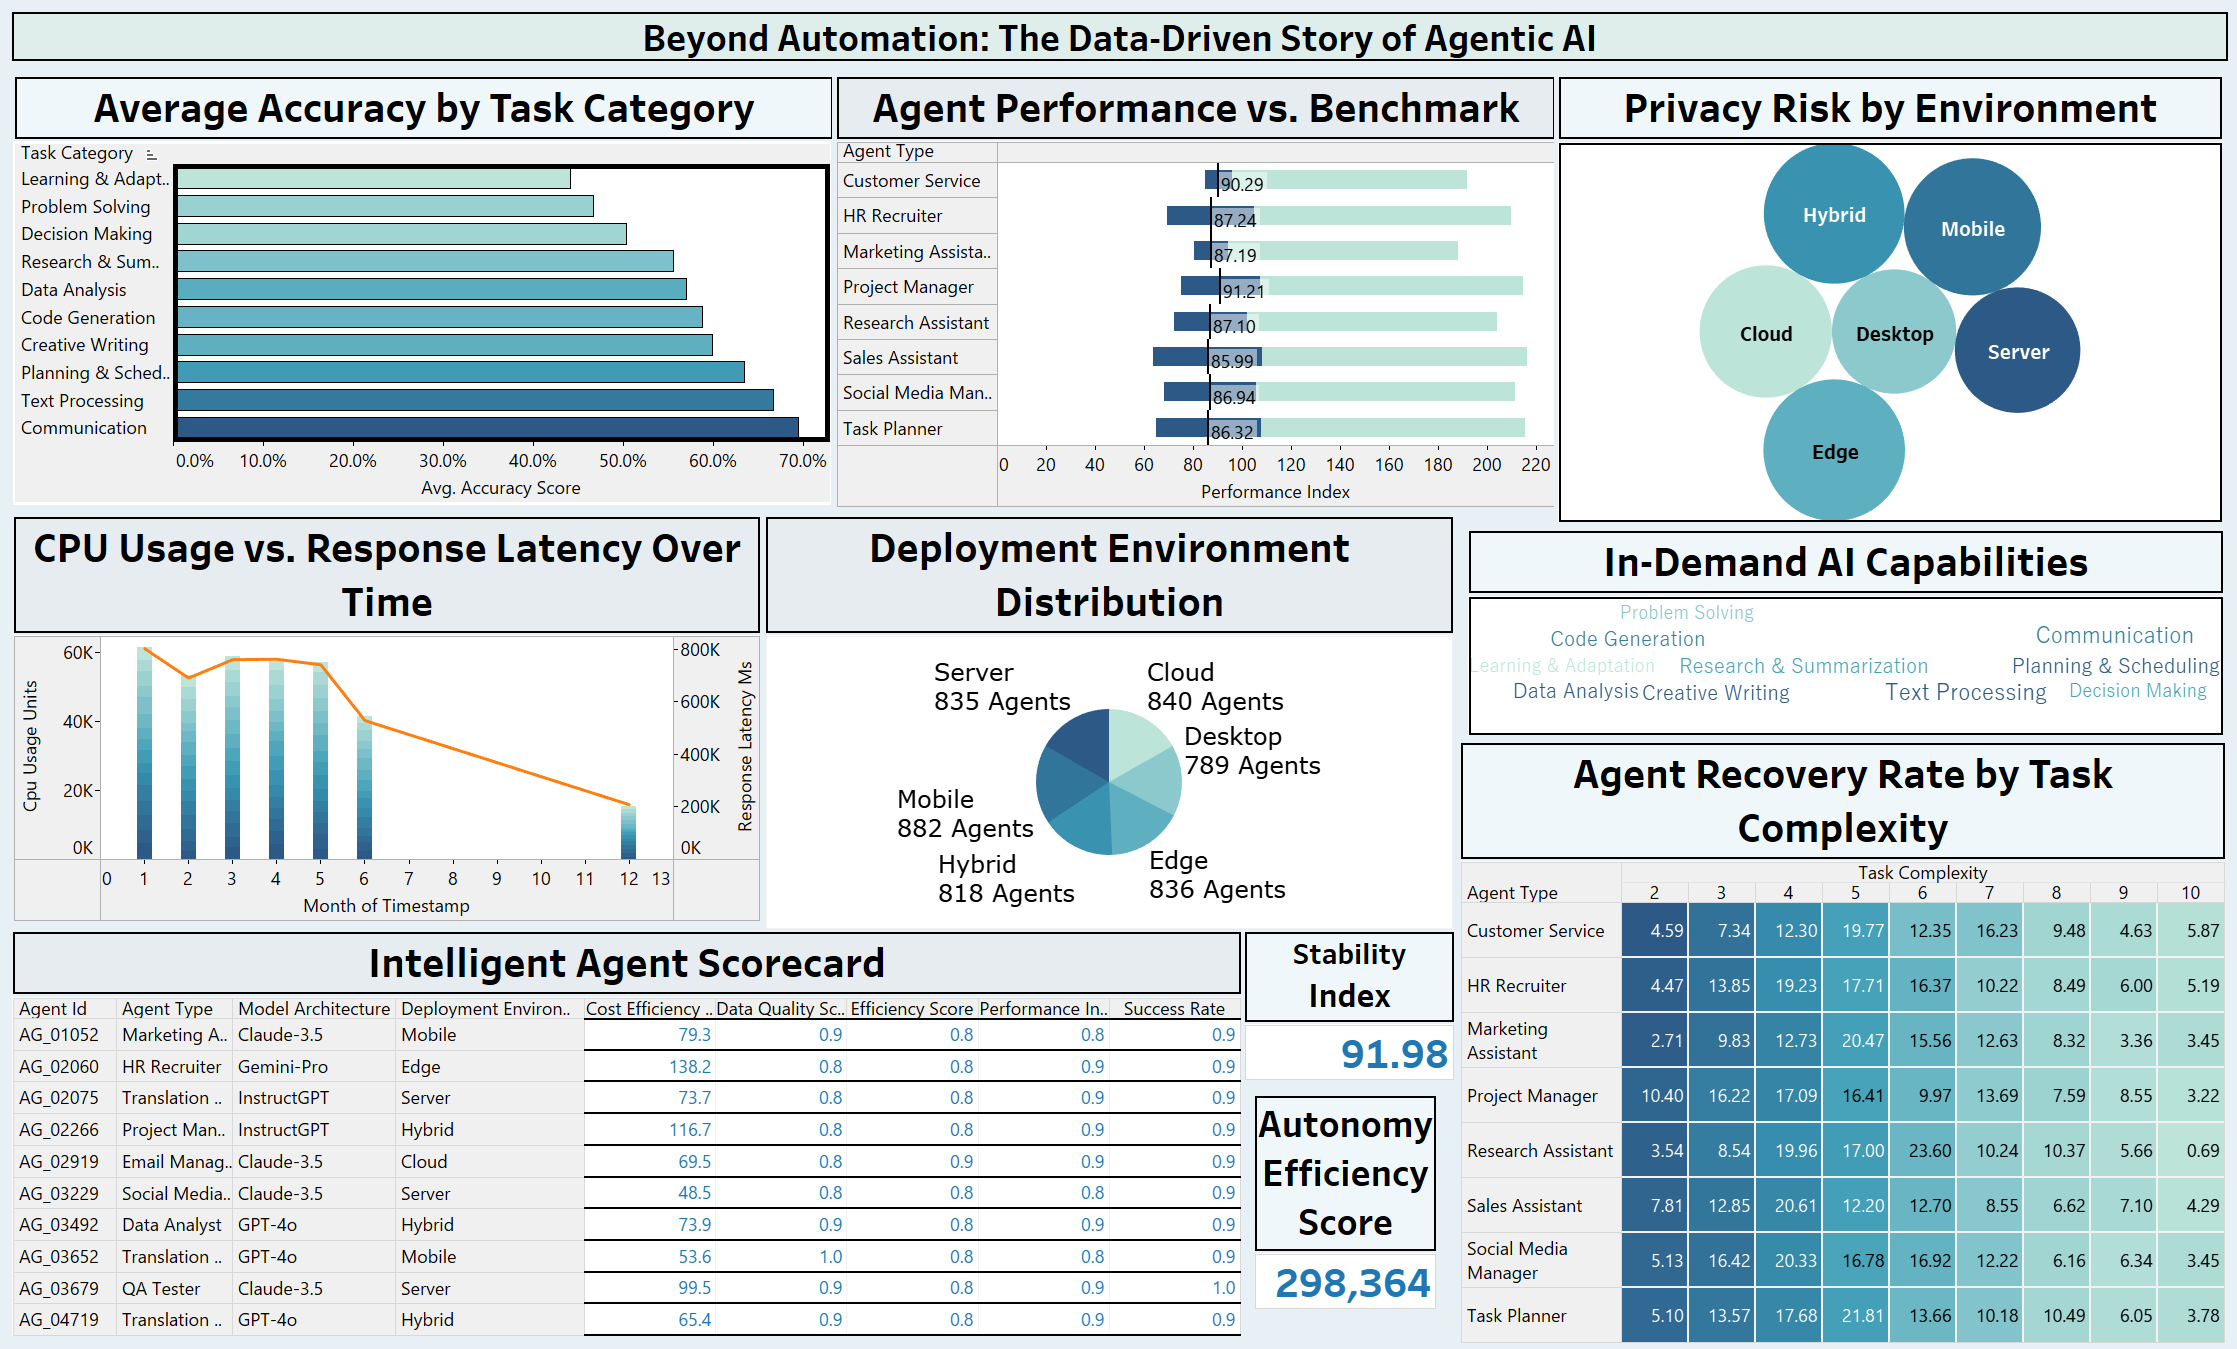

The page's visual inventory and layout, read from the dashboard file:
{"tool":"tableau","page":{"name":"Dashboard 1","canvas":[1000,1000],"units":"permille","ordinal":0},"visuals":[{"type":"title","box":[4.2,7.5,991.6,53.2]},{"type":"worksheet","title":"Bar Chart","mark":"Automatic","rows":["task_category"],"cols":["accuracy_score"],"box":[5.8,56.9,365.7,316.2]},{"type":"worksheet","title":"bullet chart","mark":"GanttBar","rows":["agent_type"],"cols":["performance_index"],"box":[373.6,56.9,320.3,317.2]},{"type":"worksheet","title":"bubble chart","mark":"Circle","box":[695.5,56.9,296.6,328.4]},{"type":"worksheet","title":"dual axis chart","mark":"Automatic","rows":["cpu_usage_percent","response_latency_ms"],"cols":["timestamp"],"box":[6.3,381.5,333,298.5]},{"type":"worksheet","title":"pie chart","mark":"Pie","box":[341.9,381.5,306.6,304.1]},{"type":"worksheet","title":"Sheet 9","mark":"Text","box":[655.4,391.8,337.2,151.1]},{"type":"worksheet","title":"heatmap","mark":"Square","rows":["agent_type"],"cols":["task_complexity"],"box":[652.2,548.5,340.9,443.1]},{"type":"worksheet","title":"table","mark":"Automatic","rows":["agent_id","agent_type","model_architecture","deployment_environment"],"box":[5.3,687.5,548.8,305]},{"type":"worksheet","title":"Sheet 10","mark":"Automatic","box":[555.7,687.5,93.4,143.7]}]}

Visuals, with their boxes on the dashboard's canvas, which has no fixed pixel size, in thousandths of its width and height (x1, y1, x2, y2). These are canvas units, not pixel positions in the 2237x1349 screenshot, which may show the page scaled, cropped or inside an application window:
title: box=[4, 8, 996, 61]
"Bar Chart" worksheet: box=[6, 57, 372, 373]
"bullet chart" worksheet (GanttBar marks): box=[374, 57, 694, 374]
"bubble chart" worksheet (Circle marks): box=[696, 57, 992, 385]
"dual axis chart" worksheet: box=[6, 382, 339, 680]
"pie chart" worksheet (Pie marks): box=[342, 382, 648, 686]
"Sheet 9" worksheet (Text marks): box=[655, 392, 993, 543]
"heatmap" worksheet (Square marks): box=[652, 548, 993, 992]
"table" worksheet: box=[5, 688, 554, 992]
"Sheet 10" worksheet: box=[556, 688, 649, 831]
